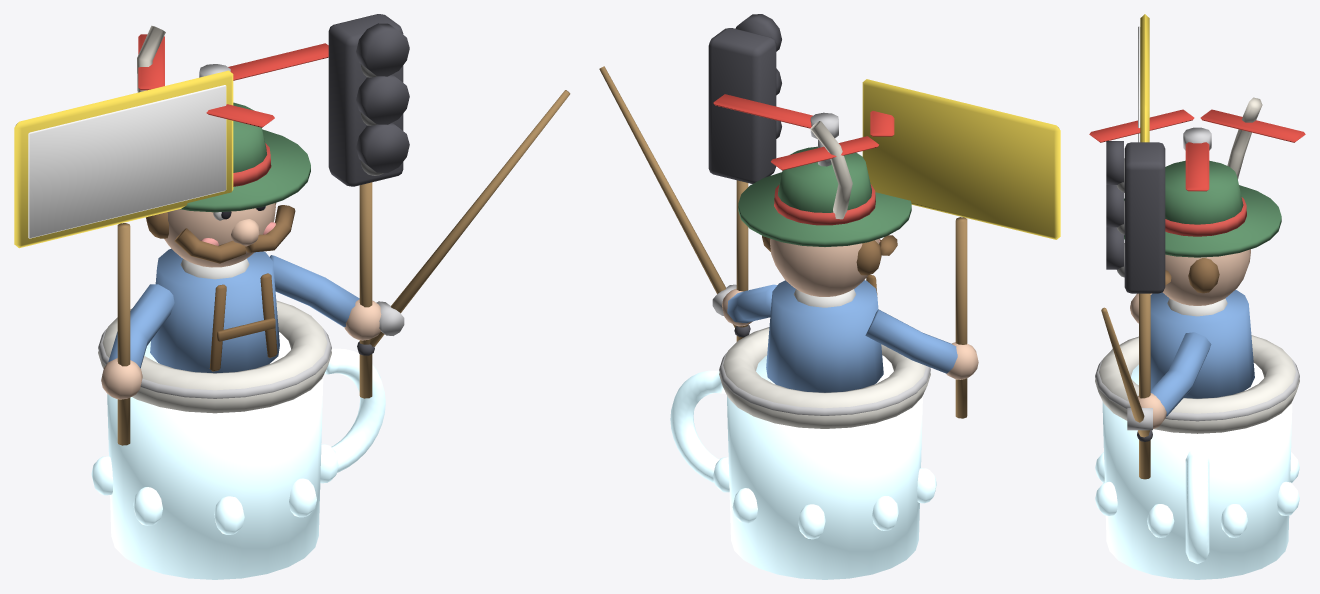
File: loisl.glb
The picture shows the model from 3 angles, left to right: view 1: azimuth 30°, elevation 25°; view 2: azimuth 150°, elevation 25°; view 3: azimuth 270°, elevation 25°; orthographic projection. The views are drawn at different scales.
Parts seen in each view (by area): view 1: LO_Body, LO_Sign, LO_Light, LO_Rod, LO_Prop; view 2: LO_Body, LO_Sign, LO_Light, LO_Prop, LO_Rod; view 3: LO_Body, LO_Light, LO_Prop, LO_Rod, LO_Sign.
Part boxes in pixels (<box>): LO_Body: <box>91,25,385,579</box>; LO_Sign: <box>14,70,233,445</box>; LO_Light: <box>328,14,409,398</box>; LO_Rod: <box>357,90,570,355</box>; LO_Prop: <box>138,34,328,127</box>; LO_Body: <box>670,121,978,579</box>; LO_Sign: <box>862,79,1060,418</box>; LO_Light: <box>708,14,781,341</box>; LO_Prop: <box>713,94,894,170</box>; LO_Rod: <box>599,66,750,337</box>; LO_Body: <box>1095,97,1299,579</box>; LO_Light: <box>1106,141,1165,479</box>; LO_Prop: <box>1089,109,1305,191</box>; LO_Rod: <box>1101,307,1152,441</box>; LO_Sign: <box>1138,14,1149,142</box>.
Bounding box in the file's own units: 4.62 × 4.26 × 1.86.
